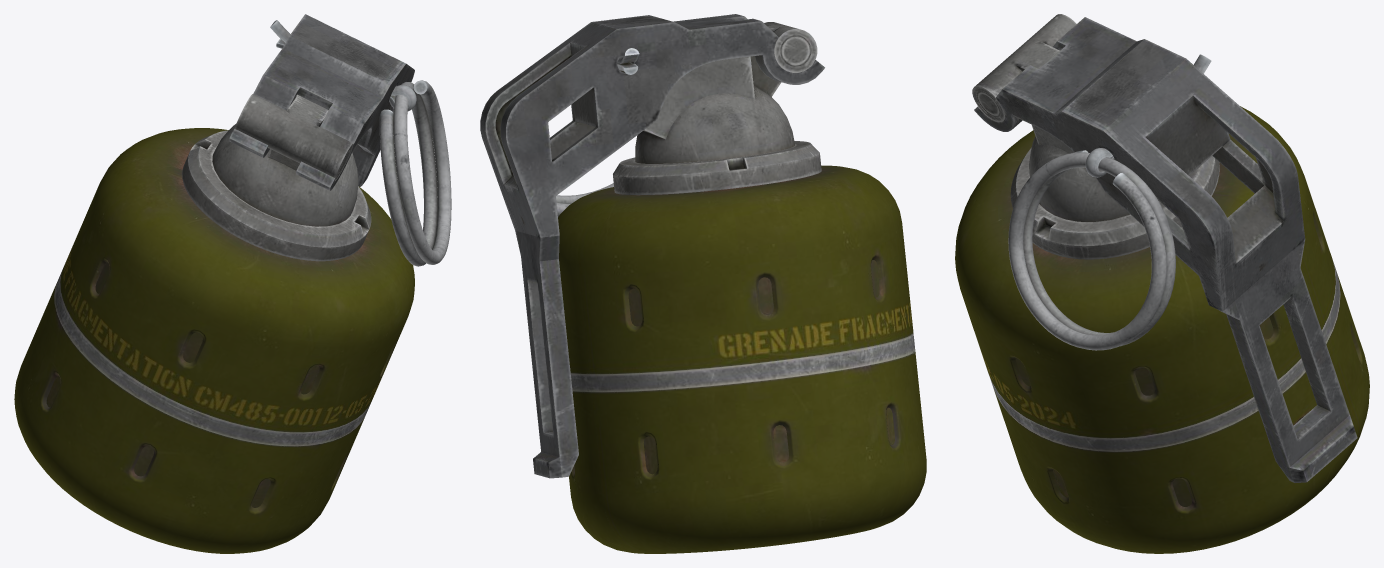
Rendered from g_decoy.glb.
The picture shows the model from 3 angles, left to right: view 1: azimuth 30°, elevation 25°; view 2: azimuth 150°, elevation 25°; view 3: azimuth 270°, elevation 25°; orthographic projection. The views are drawn at different scales.
Visible parts, largest first — view 1: Body_low, SafetyLever_low, Fuze_low, PullRing_low, FuzeNut_low, SafetyPin_low; view 2: Body_low, SafetyLever_low, Fuze_low, FuzeNut_low; view 3: Body_low, SafetyLever_low, PullRing_low, Fuze_low, FuzeNut_low, SafetyPin_low.
Boxes of the visible parts, <box> form: Body_low: <box>14,128,414,553</box>; SafetyLever_low: <box>229,14,414,190</box>; Fuze_low: <box>212,94,358,226</box>; PullRing_low: <box>379,80,451,266</box>; FuzeNut_low: <box>182,130,371,261</box>; SafetyPin_low: <box>270,20,416,111</box>; Body_low: <box>558,165,926,553</box>; SafetyLever_low: <box>480,14,824,478</box>; Fuze_low: <box>620,22,817,163</box>; FuzeNut_low: <box>613,141,821,195</box>; Body_low: <box>955,106,1369,553</box>; SafetyLever_low: <box>974,17,1357,482</box>; PullRing_low: <box>1008,150,1175,350</box>; Fuze_low: <box>972,14,1129,221</box>; FuzeNut_low: <box>1010,147,1219,259</box>; SafetyPin_low: <box>1085,54,1211,177</box>.
Bounding box in the file's own units: 0.1626 × 0.1871 × 0.1366.
Materials: 1 (1 with a texture image).
